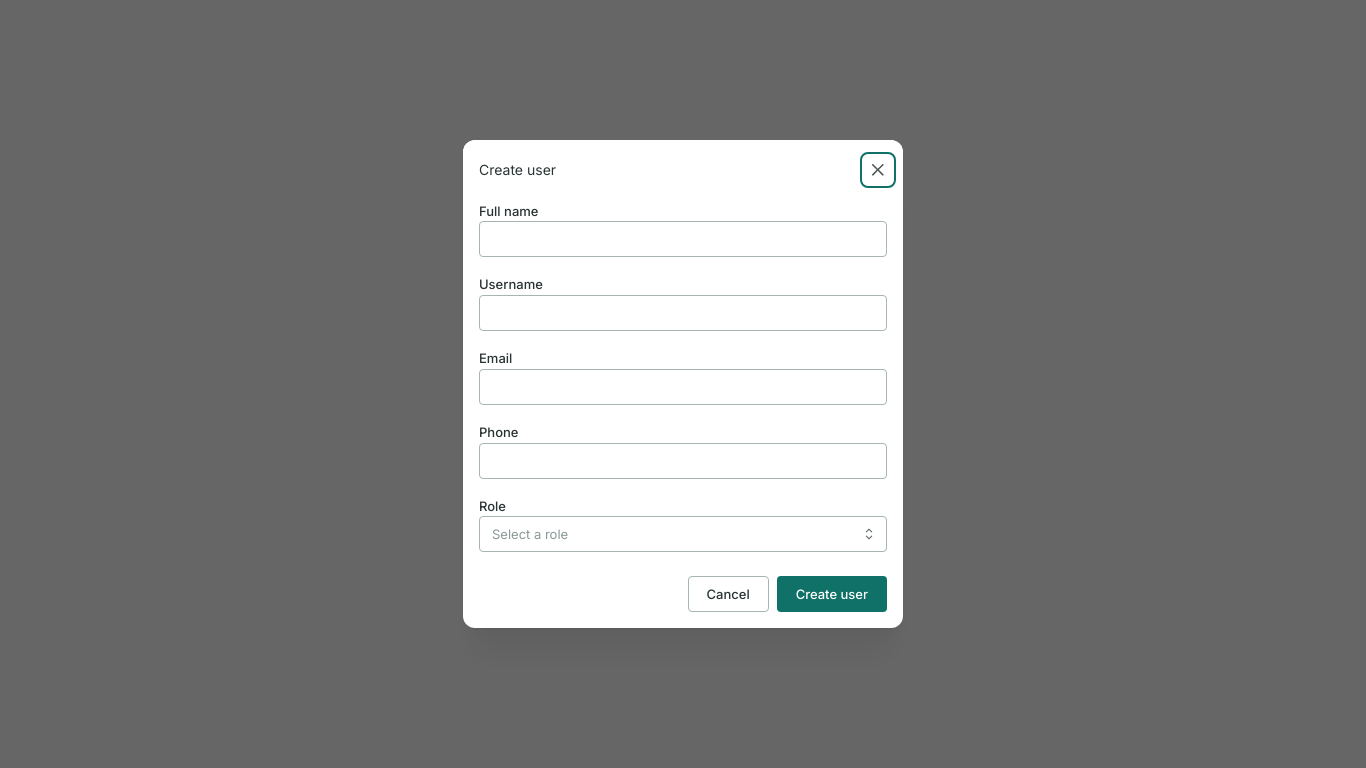
Test: CreateUserDialog › blames the email field on EMAIL_ALREADY_EXISTS
The width and height of the screenshot is (1366, 768).
Type "Priya Physio" into the field labelled "Full name".
click(683, 240); type("Priya Physio")  # box [479,222,887,258]
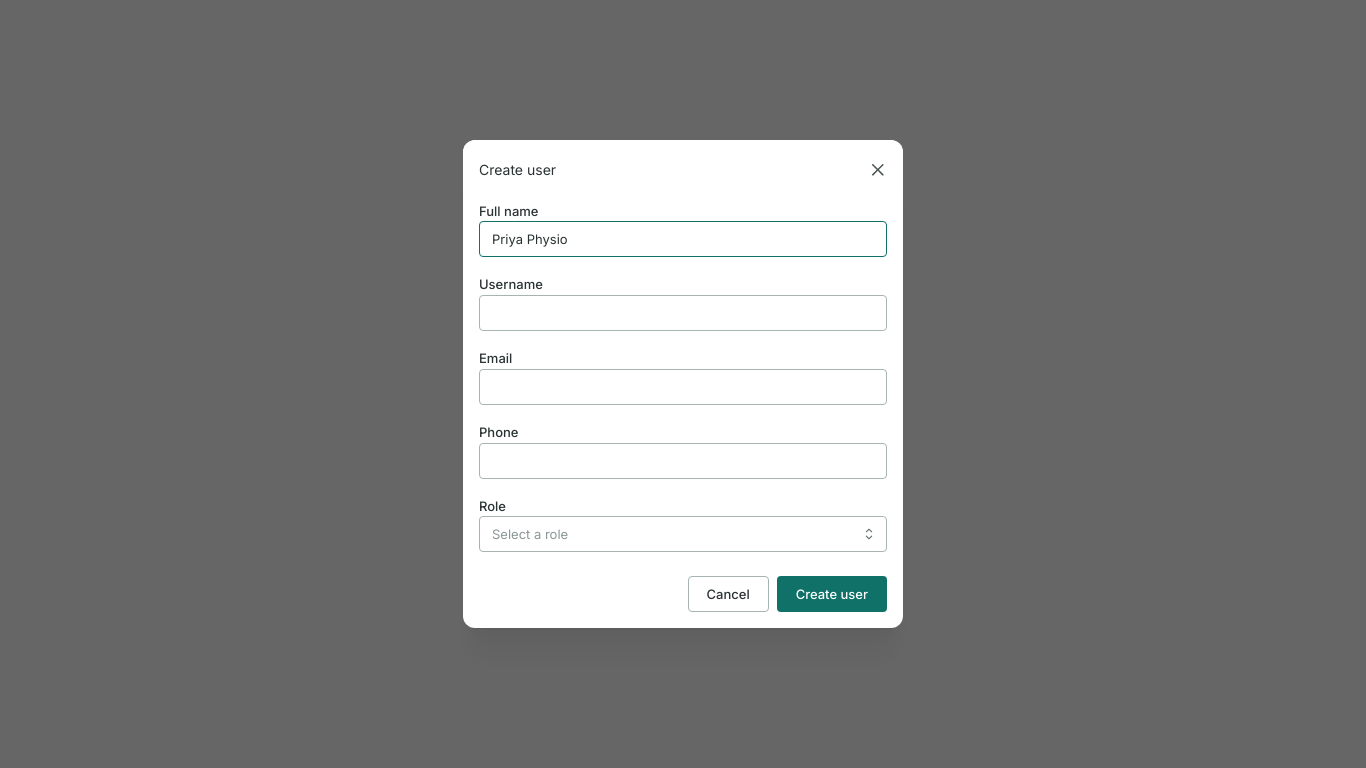
Type "priya" into the field labelled "Username".
click(683, 313); type("priya")  # box [479,295,887,331]
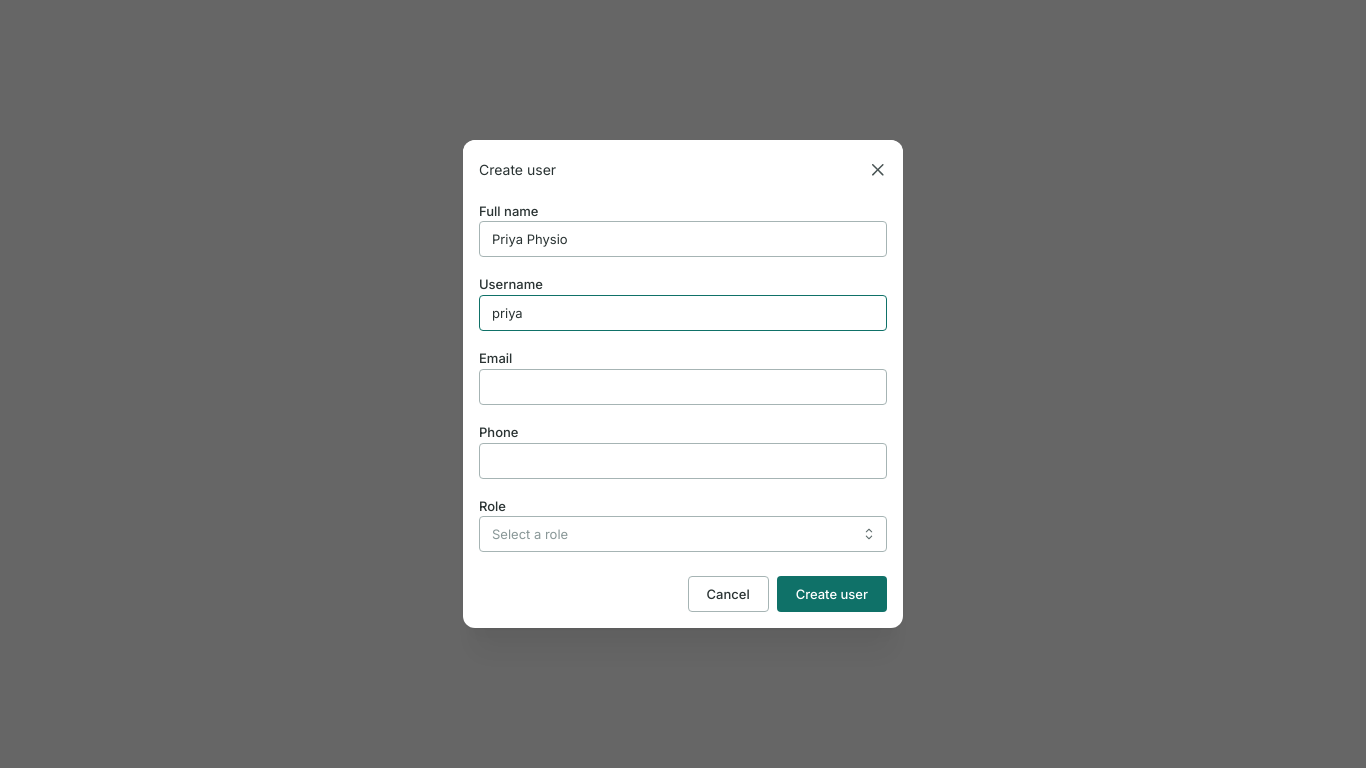
Type "priya@example.test" into the field labelled "Email".
click(683, 387); type("priya@example.test")  # box [479,369,887,405]
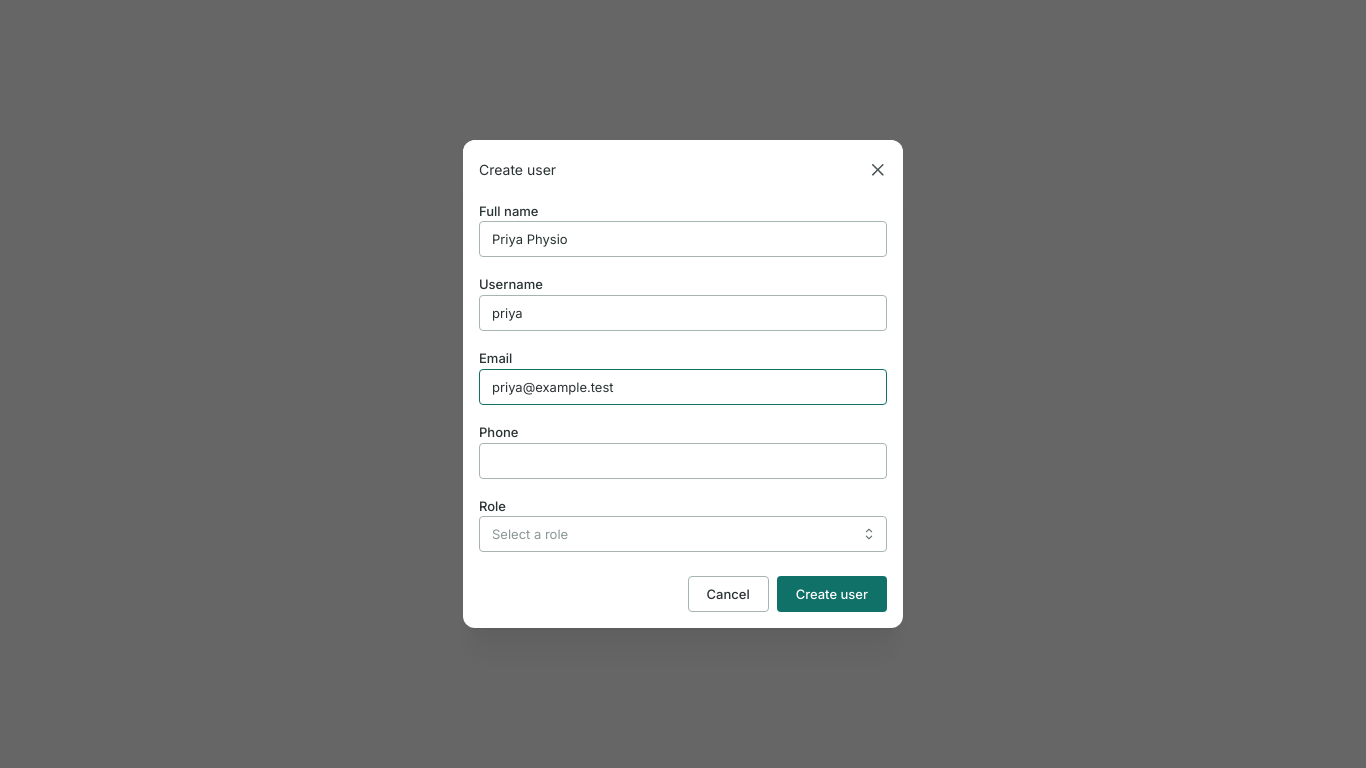
Click the dropdown labelled "Role".
click(683, 534)  # box [479,516,887,552]
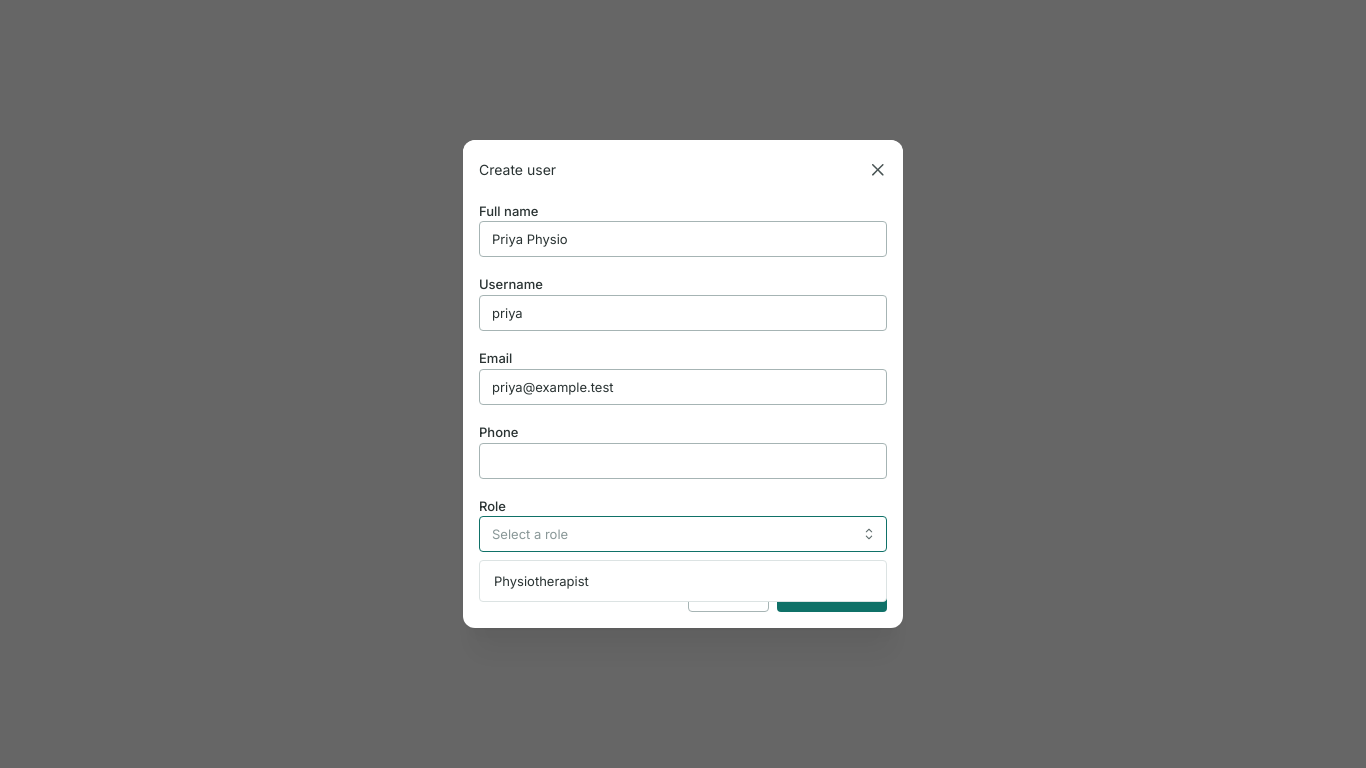
Click the option "Physiotherapist".
click(541, 581)  # box [494,573,589,589]
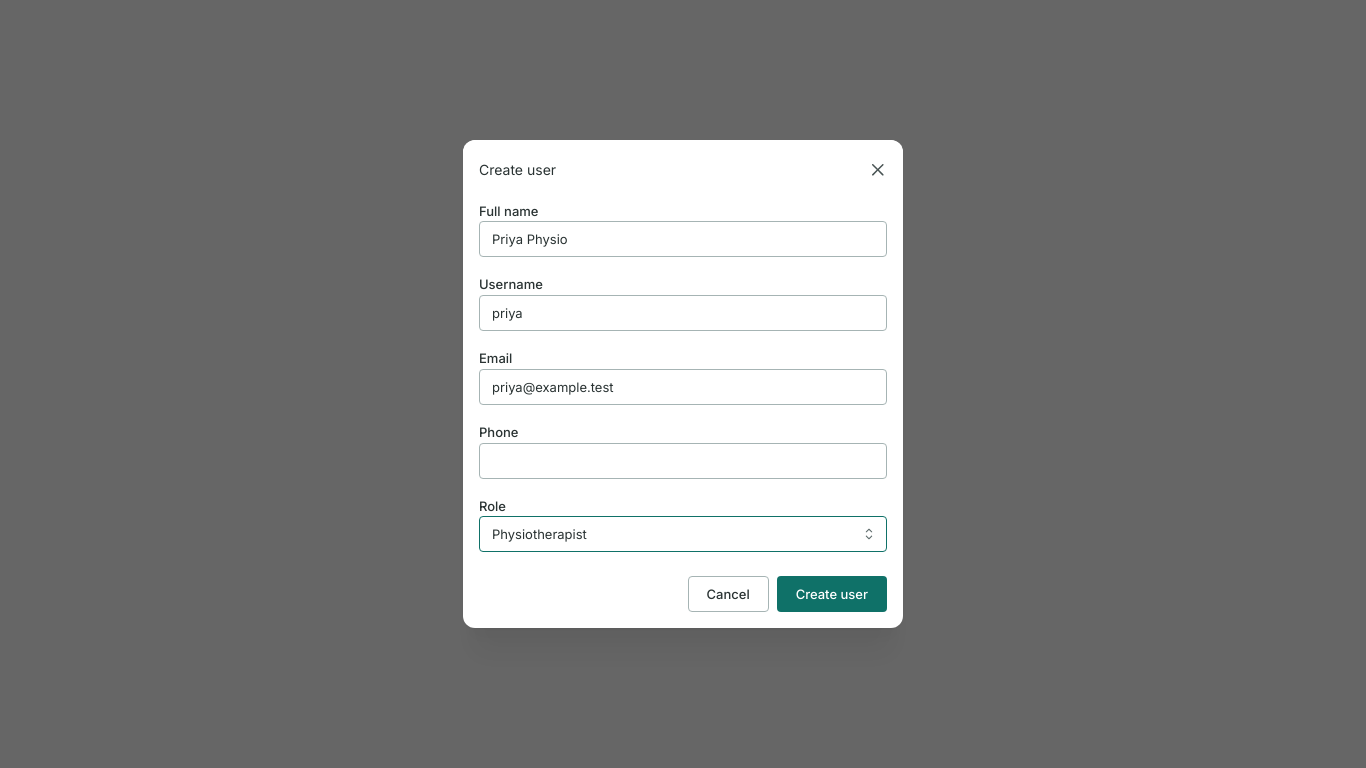
Click the button "Create user".
click(832, 594)  # box [777,576,887,612]
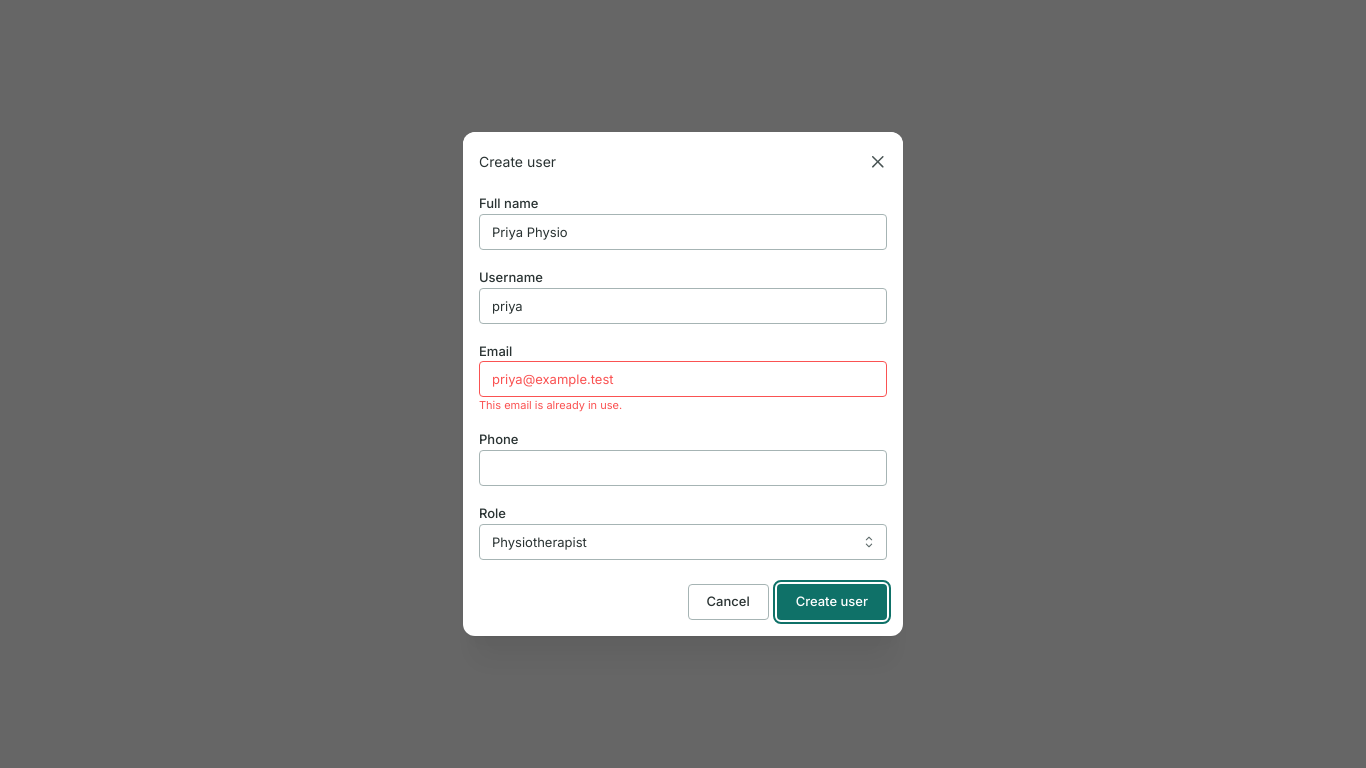
Expected: the text "This email is already in use." is shown, [479,398,622,412]
